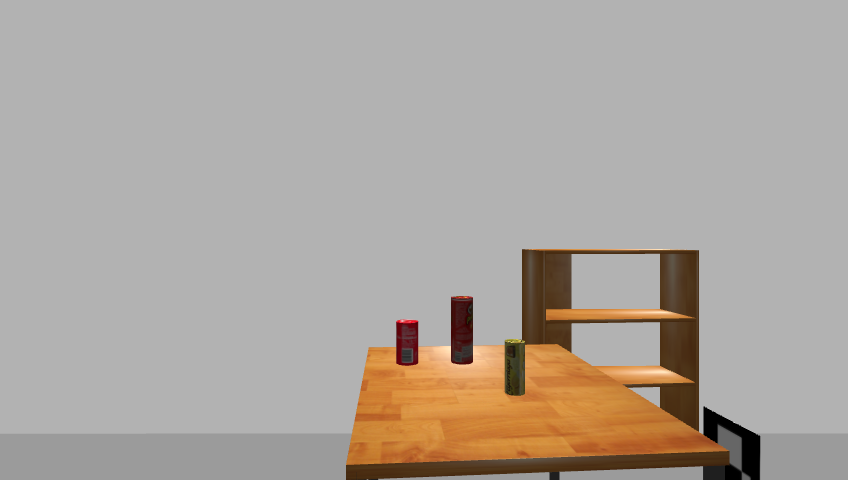aruco marker: (696, 406, 765, 479)
biscuits pack: (504, 339, 526, 397)
bookshelf: (518, 247, 711, 479)
coke can: (394, 319, 420, 367)
dinner table: (342, 343, 731, 479)
pringles can: (449, 295, 475, 366)
